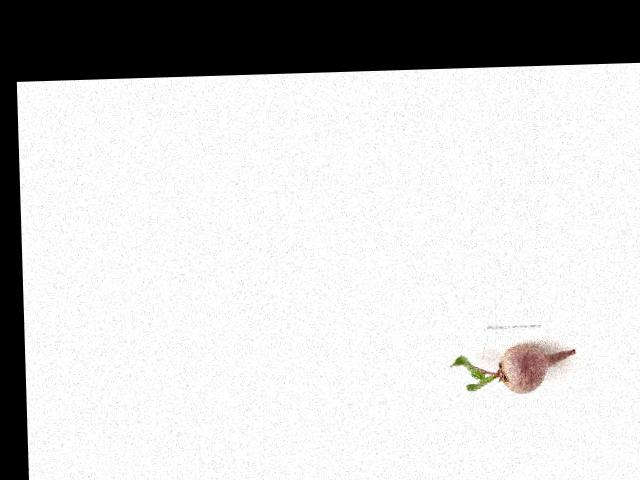beet: (448, 342, 575, 395)
